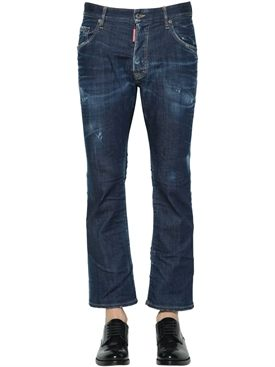Jeans: (72, 1, 202, 312)
